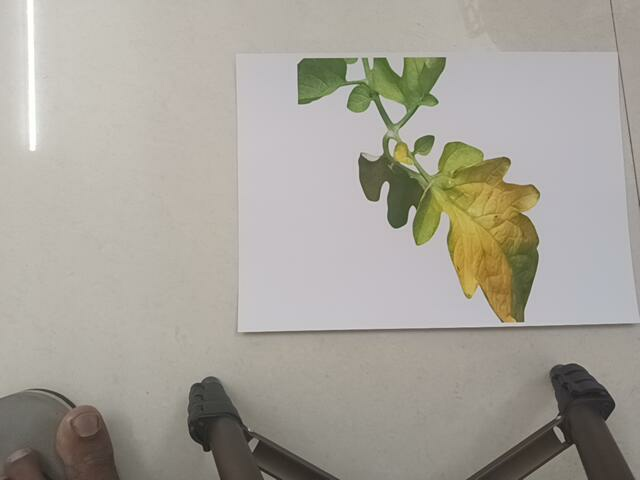Tomamto_Yellow_Disease: (294, 56, 562, 325)
